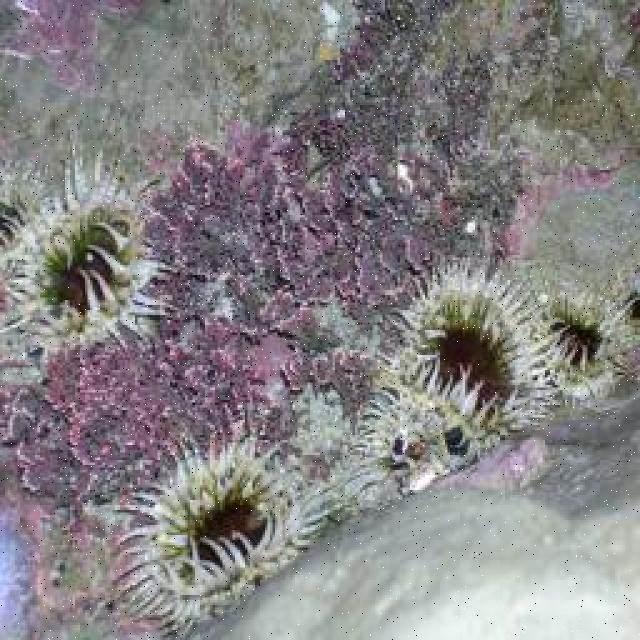reefs: (0, 105, 452, 504), (353, 248, 638, 492), (115, 421, 351, 636), (0, 126, 179, 358)
